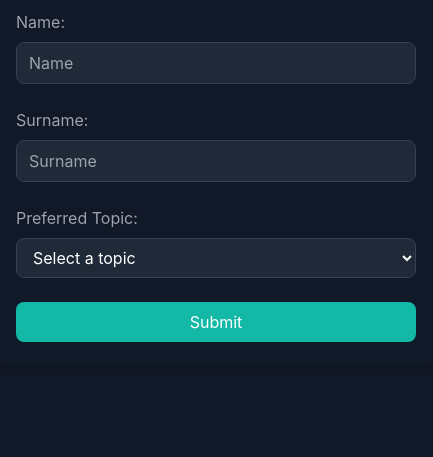
Test case: UserInfoForm › displays custom topic input when "Other" is selected
Step 1. Select "Other" in the dropdown labelled "Preferred Topic:" → (216, 258), box [16,238,416,278]
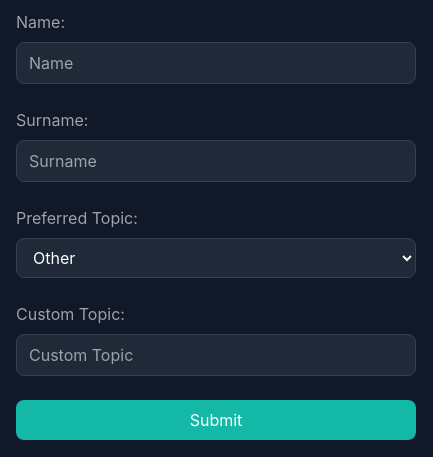
Result: the field with placeholder "Custom Topic" is shown at [16,334,416,376]
